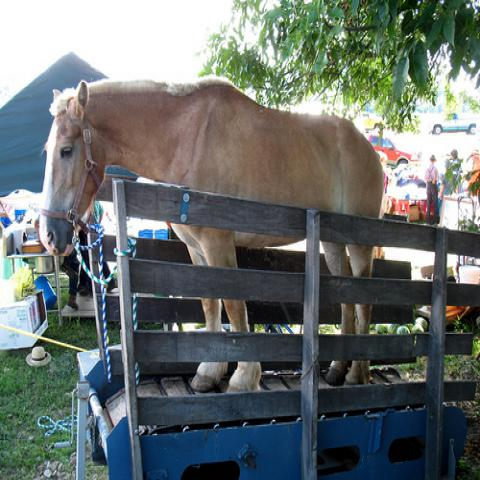car: (366, 134, 422, 167), (432, 113, 477, 135)
truck: (74, 175, 479, 474), (368, 133, 422, 169), (428, 112, 477, 135)
